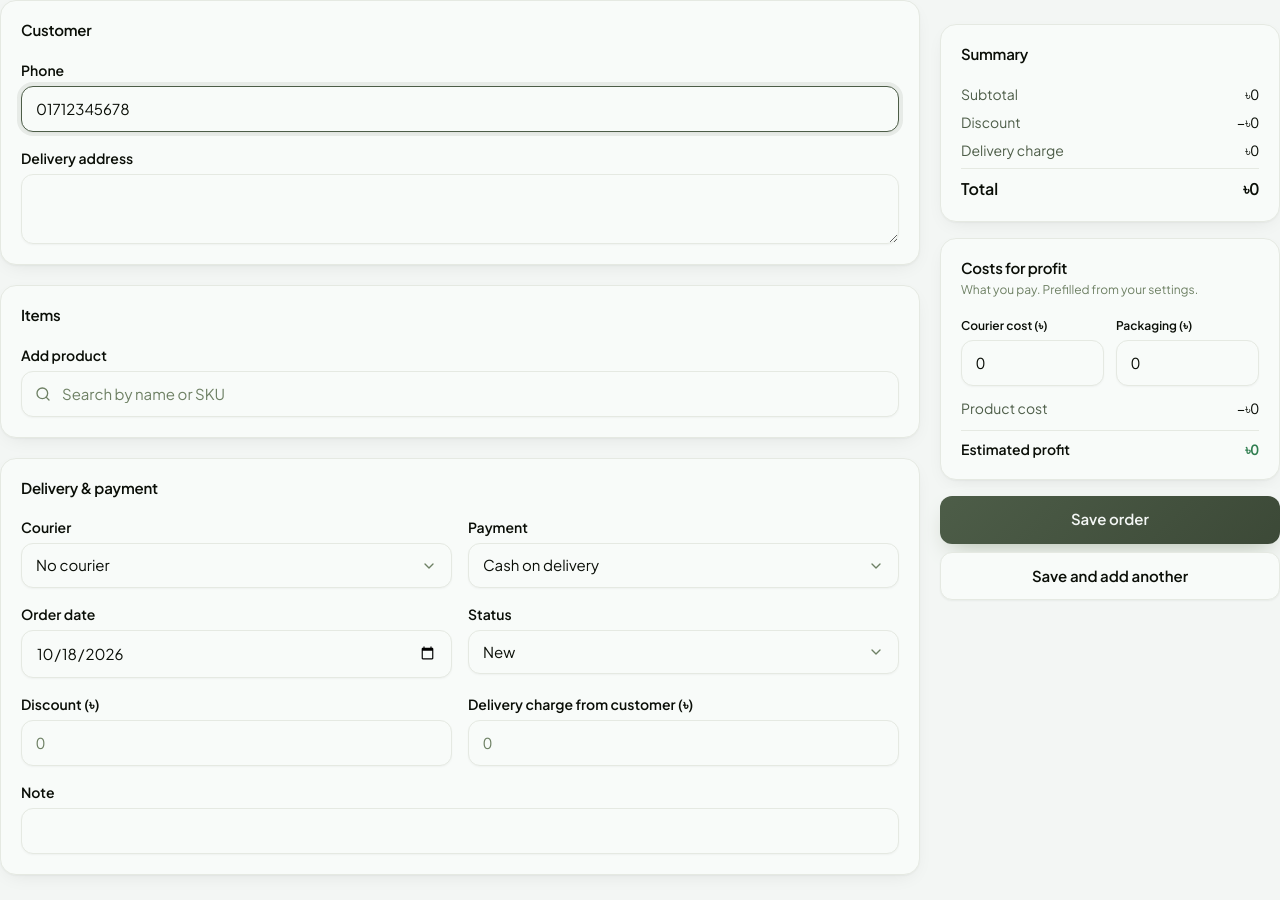
it: OrderForm pricing › reprices to the old price when the order is backdated
Type "saree" into the dropdown labelled "Add product" at (460, 394), box [21, 370, 899, 416]
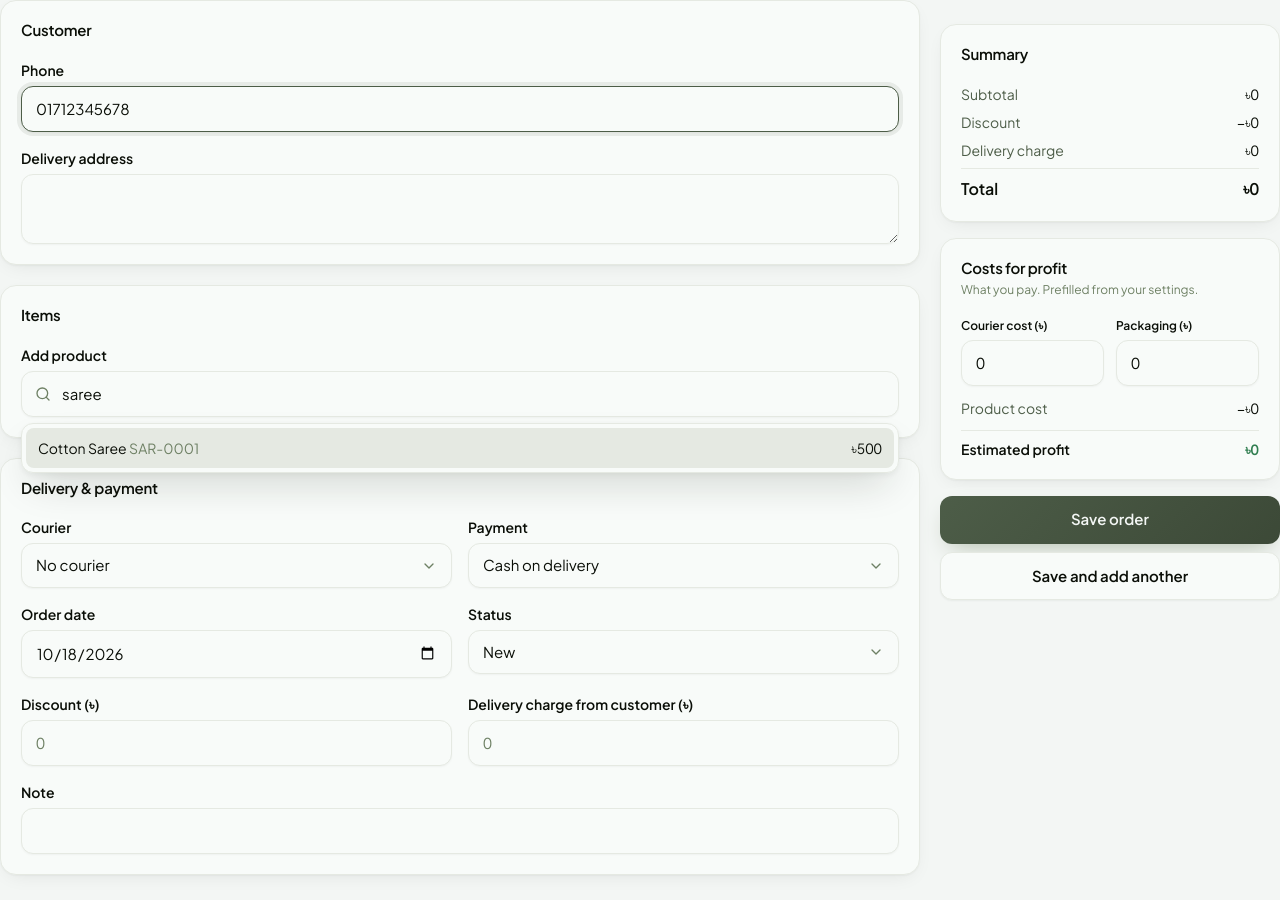
Press the mouse on the option "Cotton Saree SAR-0001 ৳500" at (82, 448), box [26, 428, 894, 468]
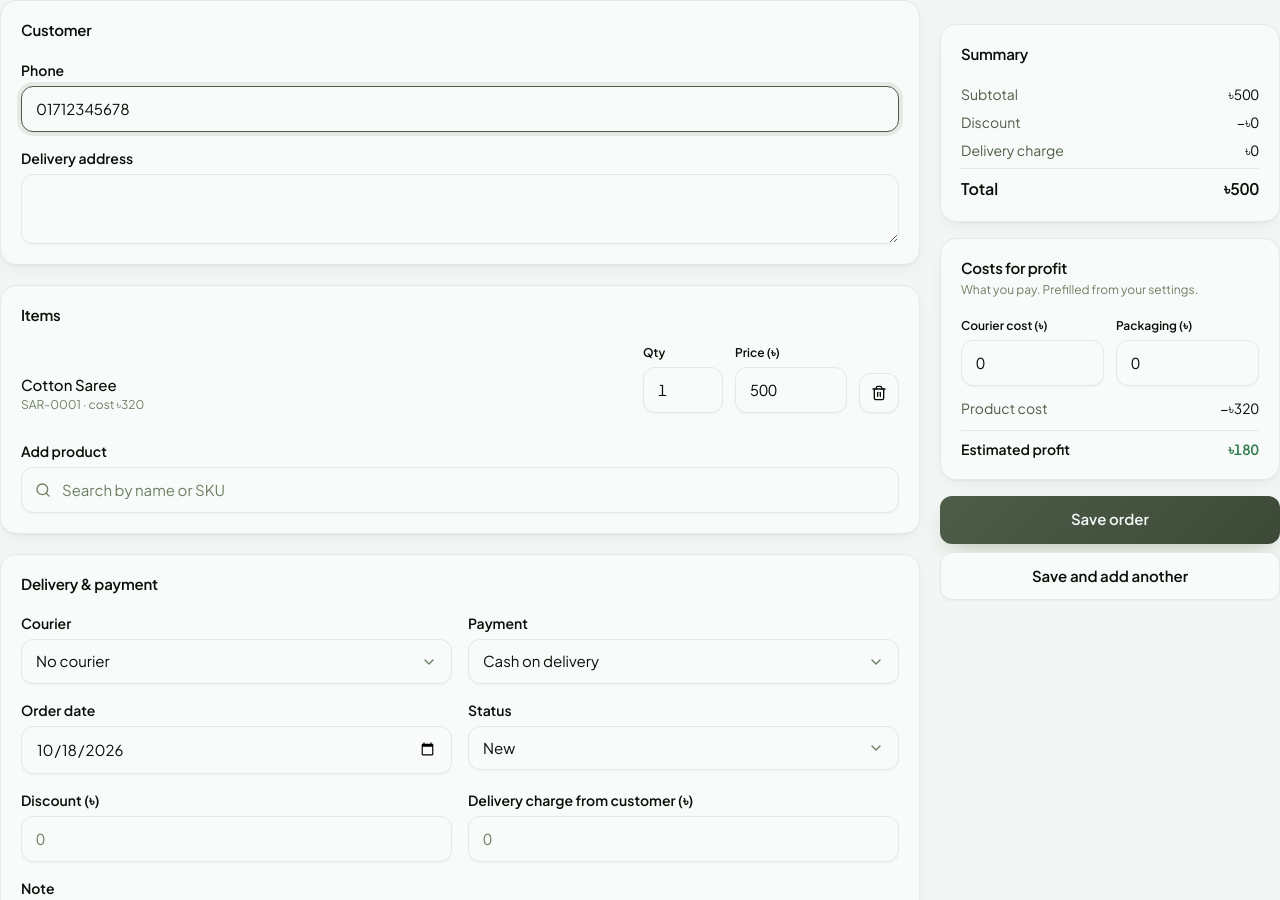
Type "2026-10-10" into the date field labelled "Order date" at (236, 750), box [21, 726, 452, 774]
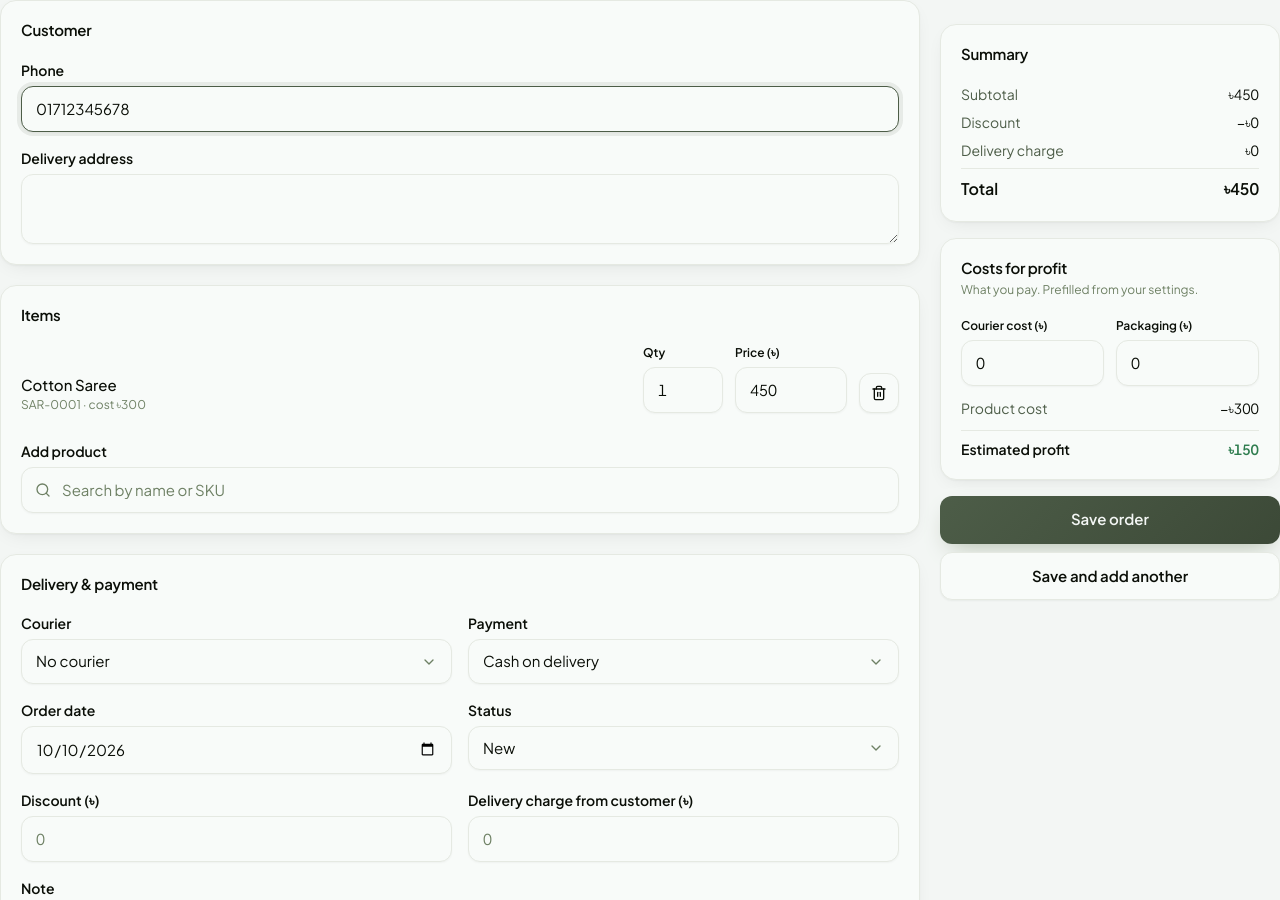
Result: the field labelled "Price (৳)" holds "450" at [735, 366, 847, 412]
Result: the text "SAR-0001 · cost ৳300" is shown at [21, 396, 146, 412]
